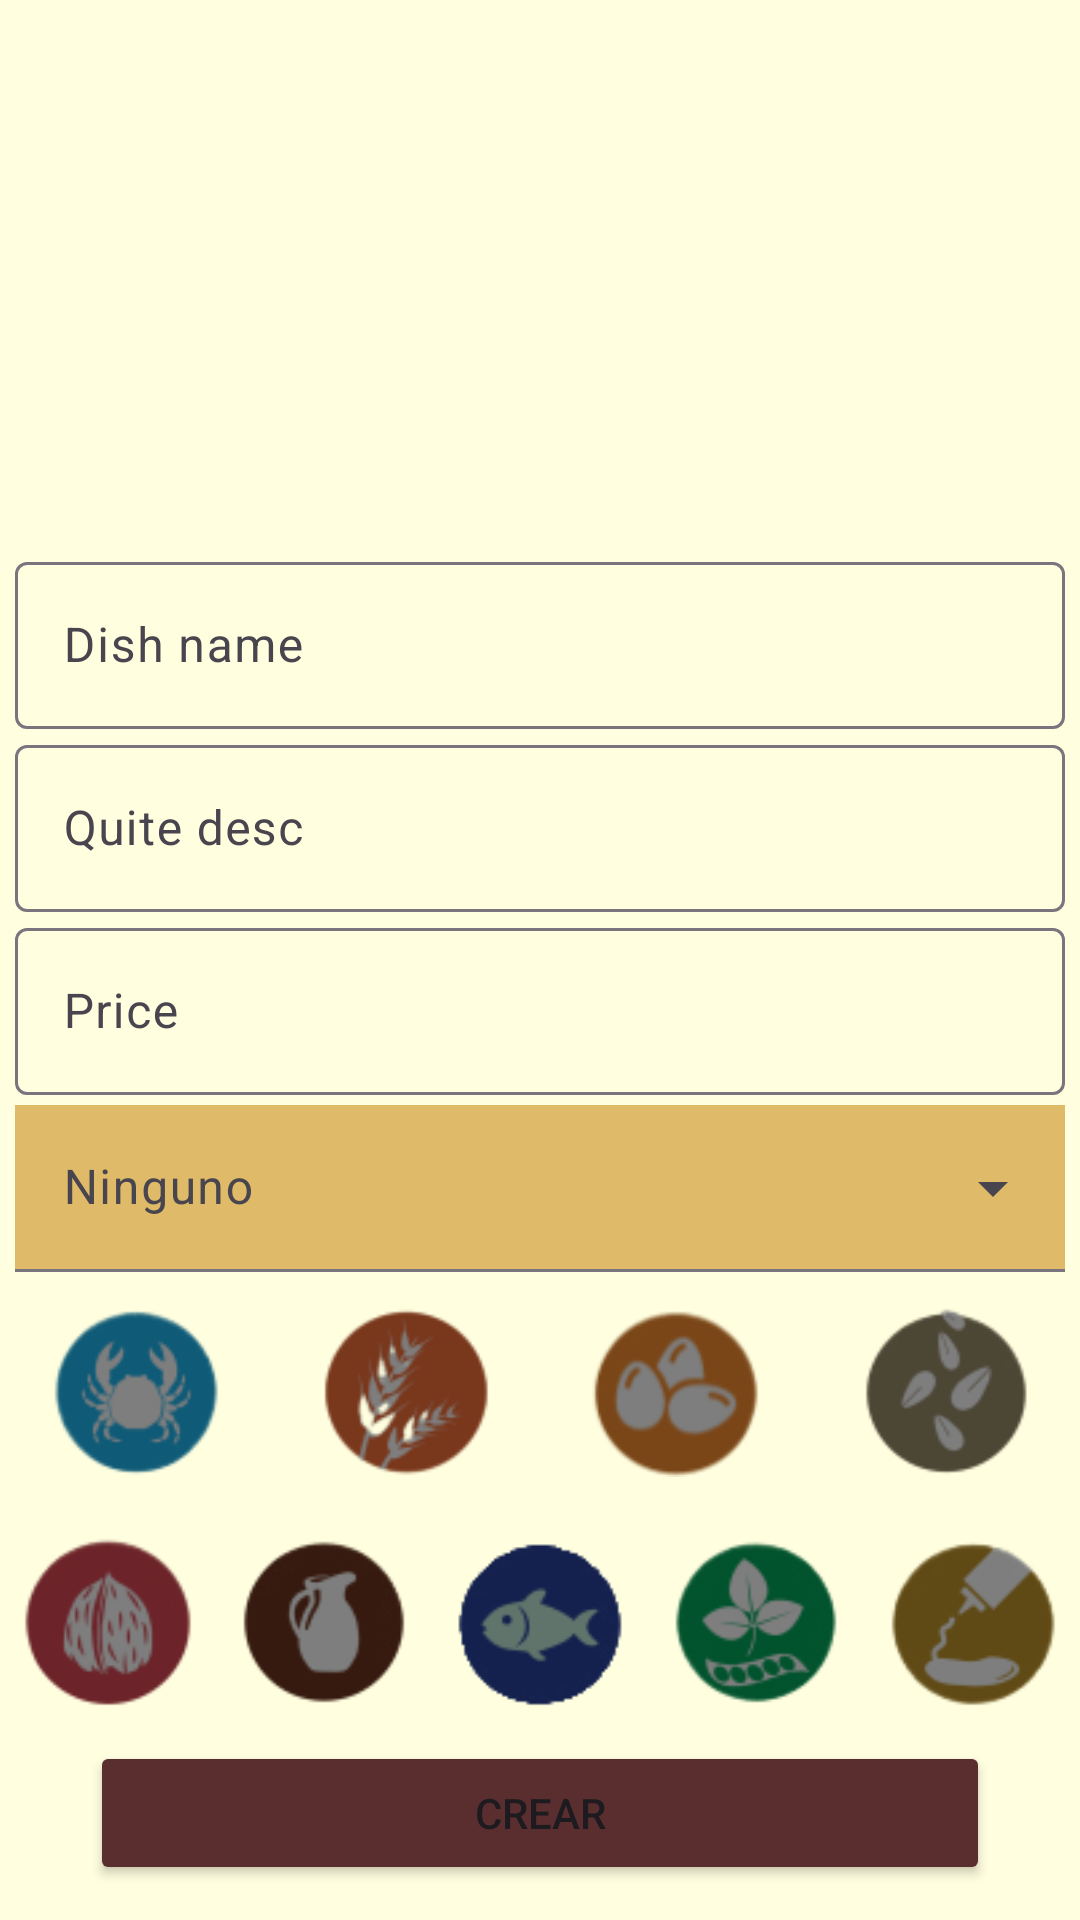

Where icons sit on this 1080 x 1920 app screen, as (x1, y1, x2, y2):
crustaceo oscuro: (55, 1311, 218, 1473)
dairy oscuro: (243, 1542, 405, 1703)
egg oscuro: (594, 1312, 758, 1477)
fish oscuro: (458, 1544, 622, 1705)
gluten oscuro: (324, 1311, 488, 1474)
mustard oscuro: (892, 1544, 1055, 1705)
nuts oscuro: (25, 1540, 191, 1705)
sesame oscuro: (866, 1309, 1027, 1473)
soy oscuro: (675, 1542, 837, 1703)
